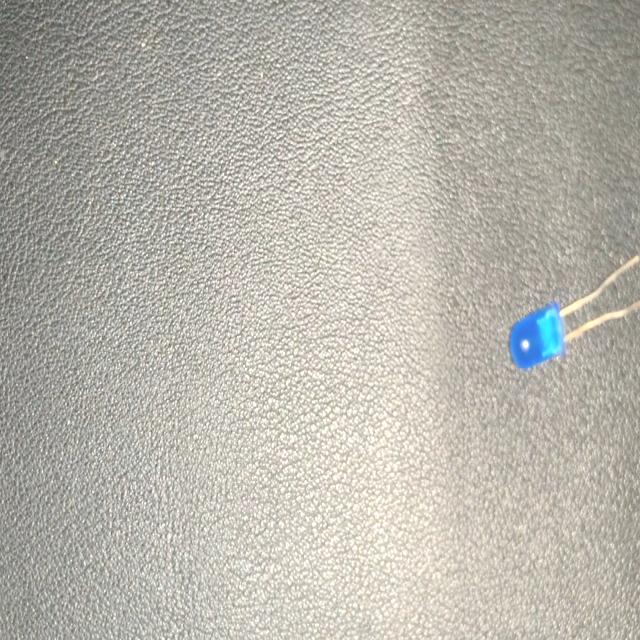LED: (508, 251, 640, 374)
